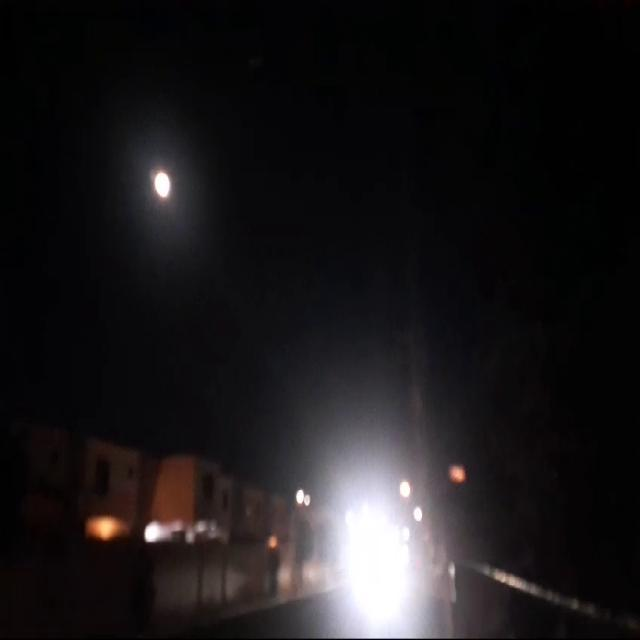moon: (155, 172, 176, 208)
